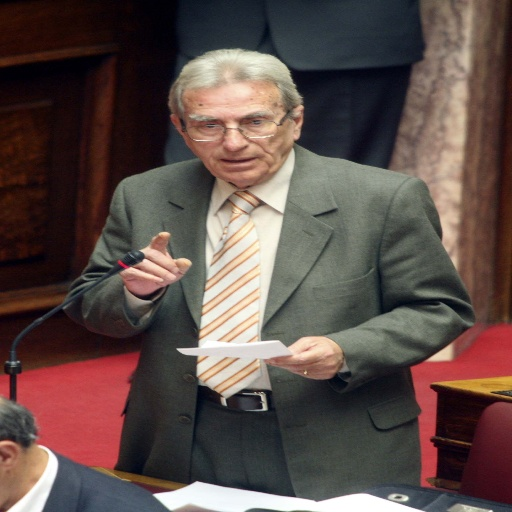hand: (122, 236, 195, 299), (261, 336, 342, 381)
